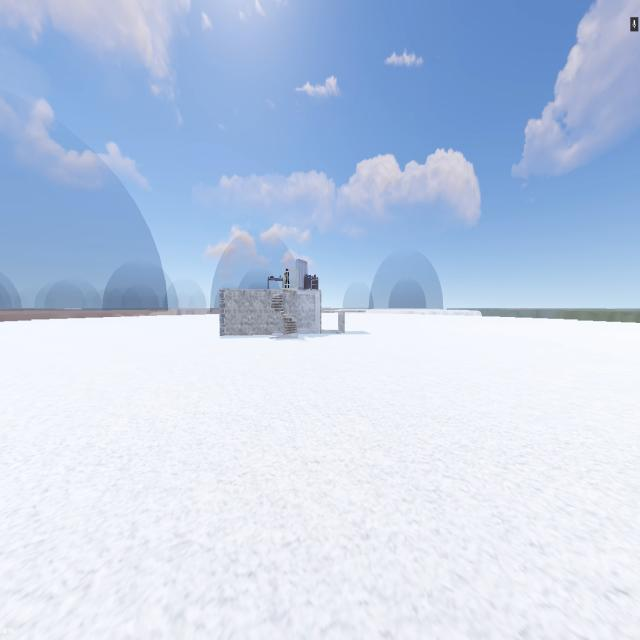Player: (285, 268, 289, 289)
